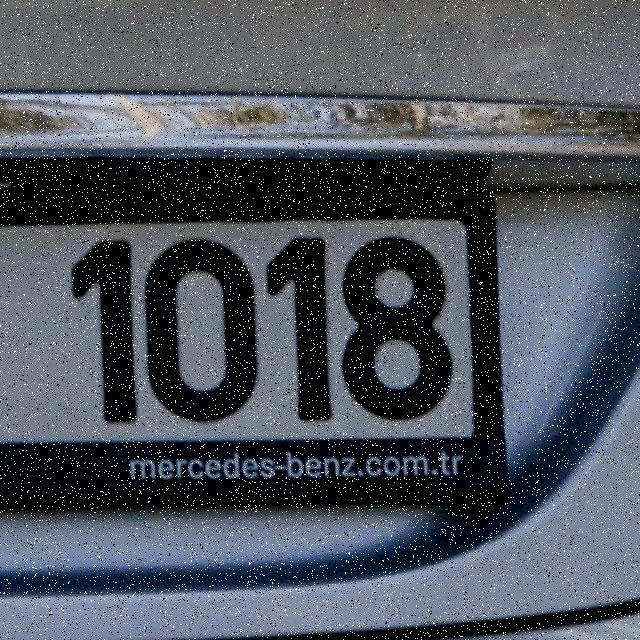licenseplate: (0, 158, 525, 504)
